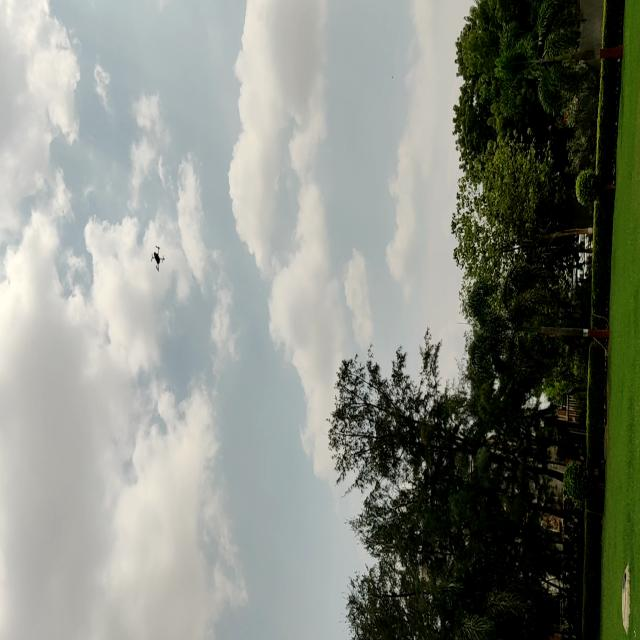drone: (147, 243, 170, 271)
